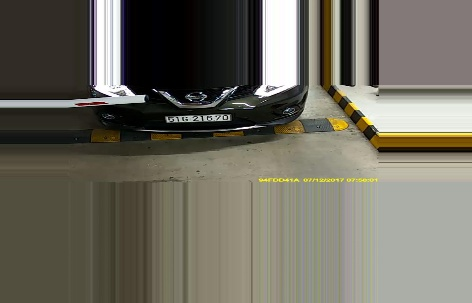plate: (165, 112, 232, 124)
